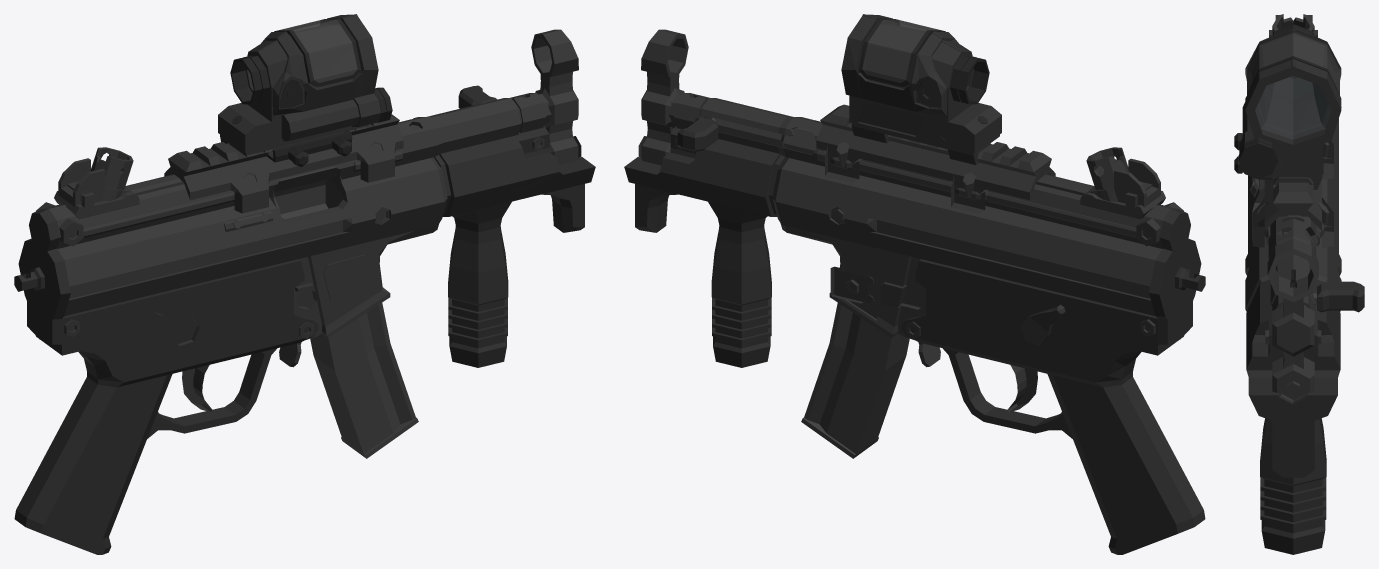
Rendered from low-poly_hk_mp5k-named-nodes.glb.
The picture shows the model from 3 angles, left to right: view 1: azimuth 30°, elevation 25°; view 2: azimuth 150°, elevation 25°; view 3: azimuth 270°, elevation 25°; orthographic projection. The views are drawn at different scales.
Visible parts, largest first — view 1: Object_5, Object_4, Object_17, Object_7, Object_14, Object_6, Object_8, Object_18, Object_9, Object_19, Object_10; view 2: Object_5, Object_4, Object_17, Object_7, Object_14, Object_6, Object_8, Object_9, Object_19, Object_18, Object_10, Object_16; view 3: Object_5, Object_17, Object_8, Object_4, Object_14, Object_20, Object_18, Object_19, Object_6, Object_15.
Part boxes in pixels (bbox=[...]): Object_5: bbox=[14, 85, 595, 554]; Object_4: bbox=[42, 93, 551, 339]; Object_17: bbox=[218, 14, 381, 157]; Object_7: bbox=[310, 303, 418, 458]; Object_14: bbox=[164, 114, 403, 213]; Object_6: bbox=[54, 147, 402, 237]; Object_8: bbox=[510, 29, 581, 165]; Object_18: bbox=[230, 18, 392, 166]; Object_9: bbox=[36, 137, 544, 412]; Object_19: bbox=[279, 19, 357, 82]; Object_10: bbox=[273, 125, 421, 219]; Object_5: bbox=[624, 116, 1205, 554]; Object_4: bbox=[668, 93, 1177, 339]; Object_17: bbox=[841, 14, 1001, 164]; Object_7: bbox=[801, 282, 909, 458]; Object_14: bbox=[816, 104, 1055, 213]; Object_6: bbox=[817, 147, 1165, 237]; Object_8: bbox=[638, 29, 709, 165]; Object_9: bbox=[675, 138, 1183, 412]; Object_19: bbox=[862, 19, 940, 82]; Object_18: bbox=[858, 18, 989, 140]; Object_10: bbox=[712, 117, 816, 154]; Object_16: bbox=[857, 103, 923, 136]; Object_5: bbox=[1246, 107, 1364, 554]; Object_17: bbox=[1239, 27, 1341, 189]; Object_8: bbox=[1267, 239, 1318, 402]; Object_4: bbox=[1245, 15, 1341, 311]; Object_14: bbox=[1252, 141, 1333, 247]; Object_20: bbox=[1255, 76, 1331, 139]; Object_18: bbox=[1234, 24, 1339, 179]; Object_19: bbox=[1247, 32, 1339, 93]; Object_6: bbox=[1249, 14, 1324, 245]; Object_15: bbox=[1257, 142, 1329, 228].
Bounding box in the file's own units: 3.51 × 2.84 × 0.6429.
Materials: 2 (2 with a texture image).
